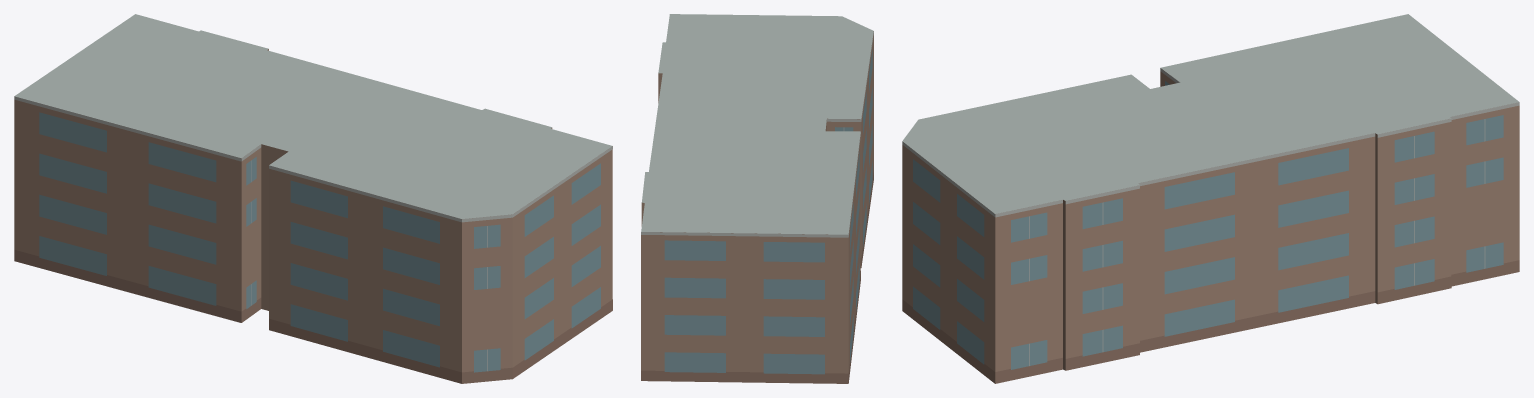
The model's file is survey-upis-32836017.glb.
3 views of the same model, side by side, from view 1: azimuth 30°, elevation 25°; view 2: azimuth 150°, elevation 25°; view 3: azimuth 270°, elevation 25° (orthographic). The views are drawn at different scales.
Parts seen in each view (by area): view 1: survey-upis-32836017.tmp; view 2: survey-upis-32836017.tmp; view 3: survey-upis-32836017.tmp.
Part boxes in pixels (x1,y1,x2,y2): survey-upis-32836017.tmp: (14, 14, 612, 383); survey-upis-32836017.tmp: (641, 14, 873, 383); survey-upis-32836017.tmp: (902, 14, 1519, 383).
Bounding box in the file's own units: 30.84 × 12.2 × 40.21.
